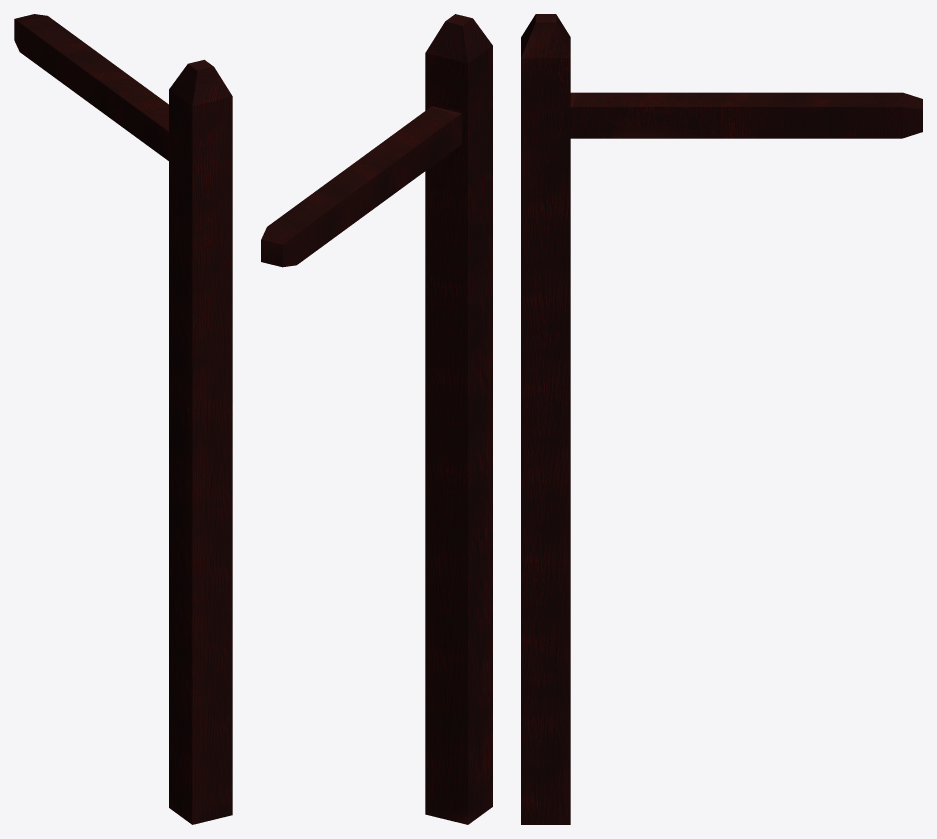
File: signpost.fbx
3 views of the same model, side by side, from view 1: azimuth 30°, elevation 25°; view 2: azimuth 150°, elevation 25°; view 3: azimuth 270°, elevation 25° (orthographic). The views are drawn at different scales.
Visible parts, largest first — view 1: Cube; view 2: Cube; view 3: Cube.
Part boxes in pixels (x1,y1,x2,y2): Cube: (14, 14, 232, 824); Cube: (261, 14, 492, 824); Cube: (521, 14, 922, 824).
Bounding box in the file's own units: 200 × 3531 × 1615.
